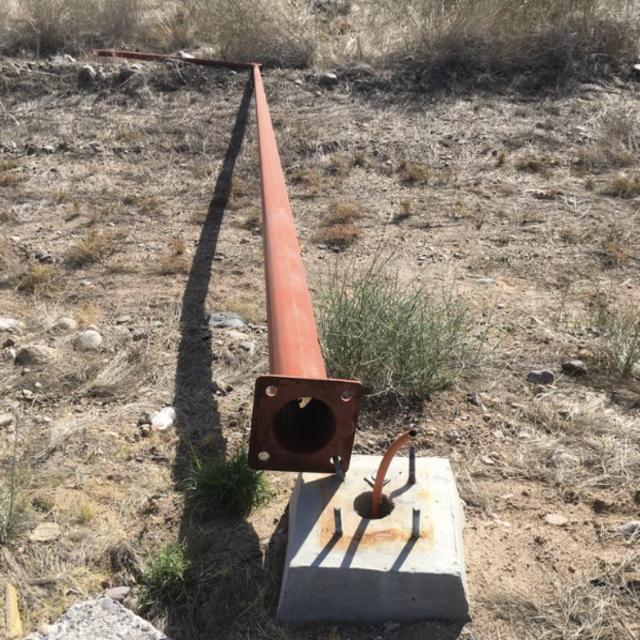Inclined Pole: (86, 43, 477, 625)
